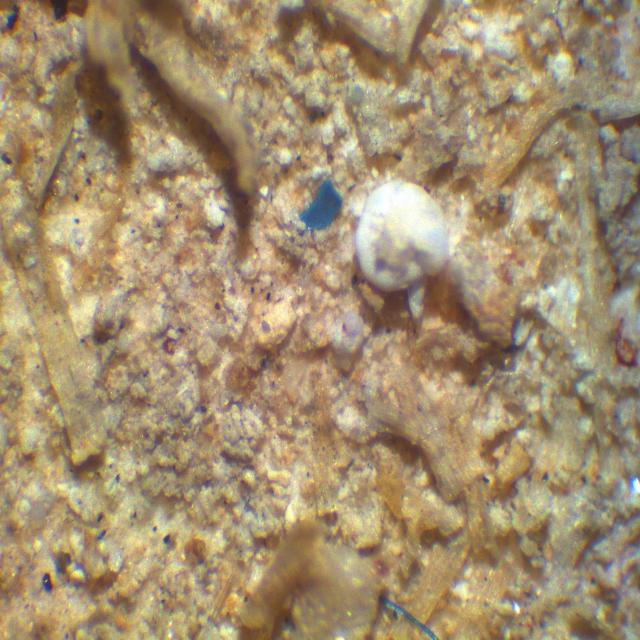microplastic: (298, 178, 344, 232)
